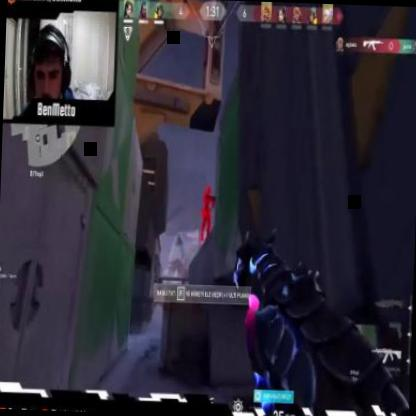enemy: (200, 183, 218, 242)
enemy_head: (206, 184, 212, 194)
